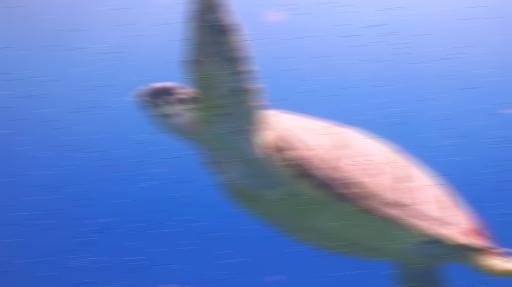Fish: (136, 0, 511, 286)
